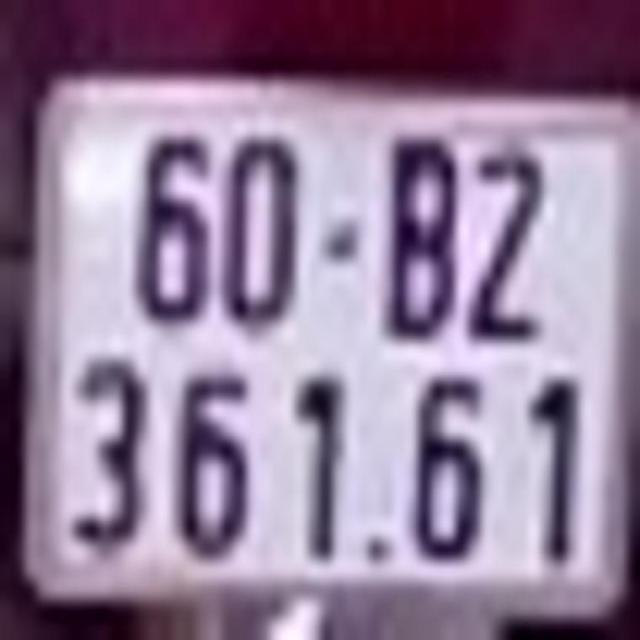0: (224, 139, 295, 328)
1: (520, 364, 588, 564), (286, 368, 350, 557)
2: (468, 138, 550, 341)
3: (73, 353, 158, 554)
6: (132, 127, 216, 326), (177, 371, 258, 560), (417, 364, 487, 558)
B: (384, 132, 459, 340)
